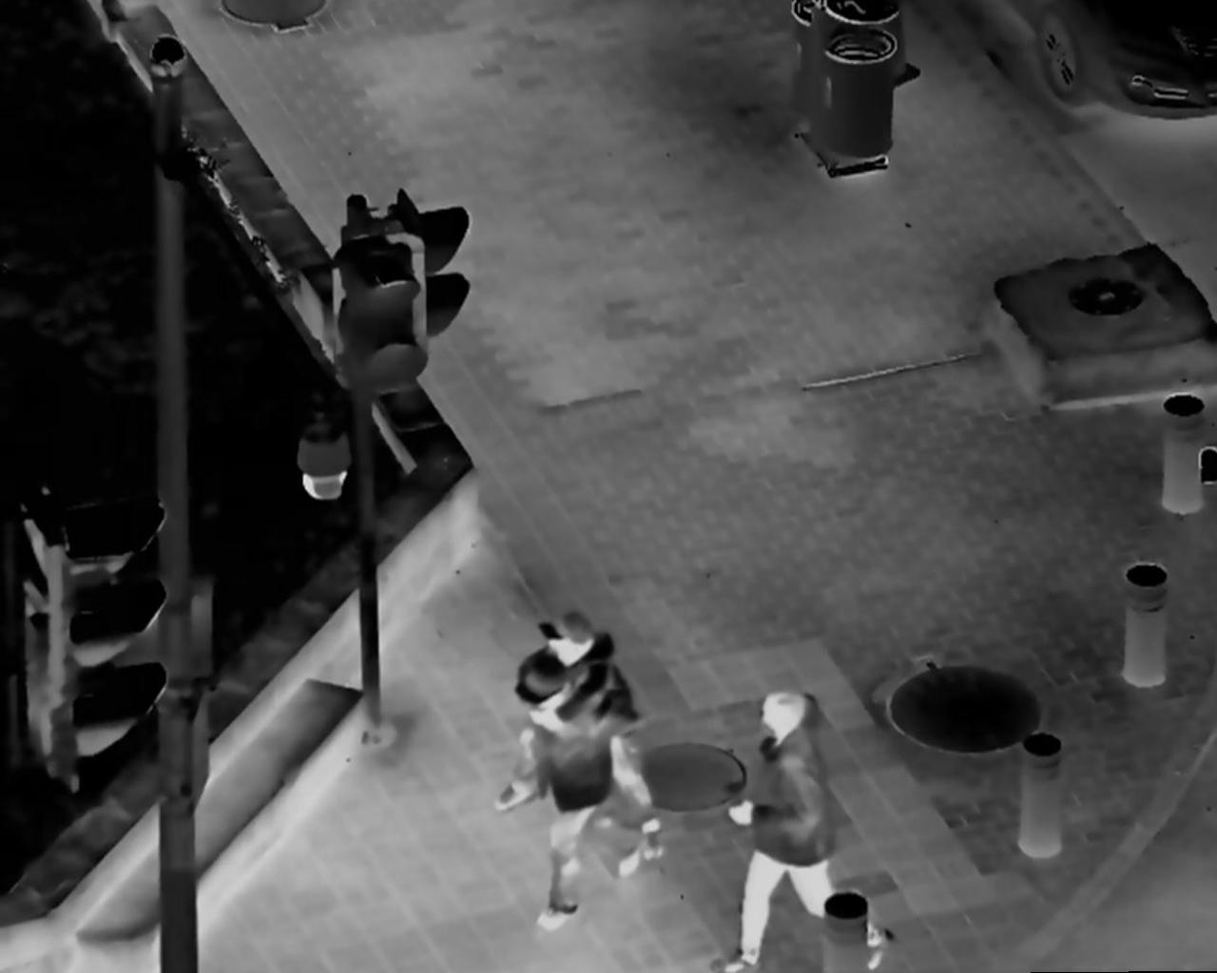person: (729, 685, 892, 973), (501, 656, 659, 927), (506, 606, 672, 855)
